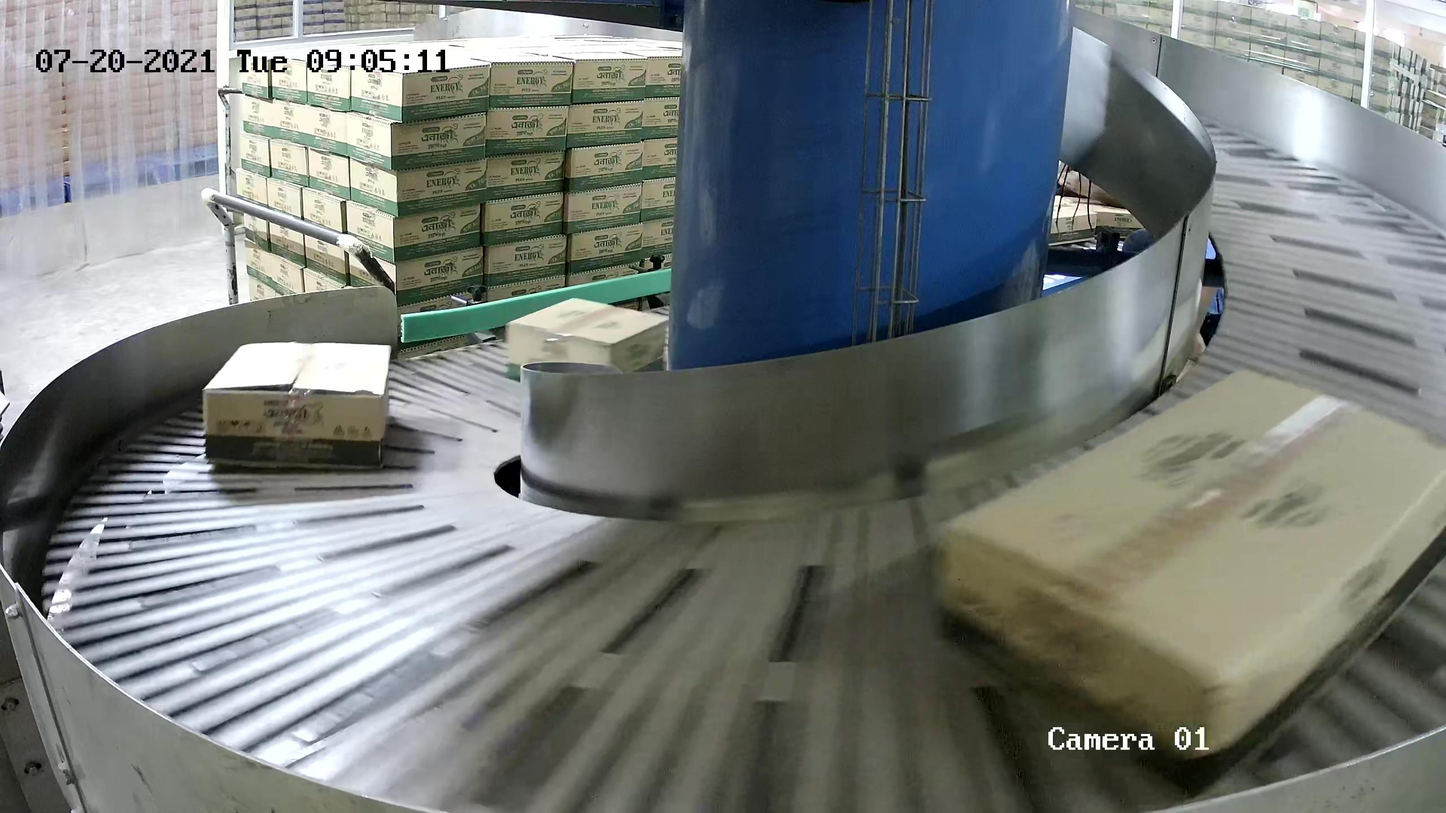Box: (936, 364, 1446, 803), (202, 340, 392, 471), (506, 298, 668, 393)
